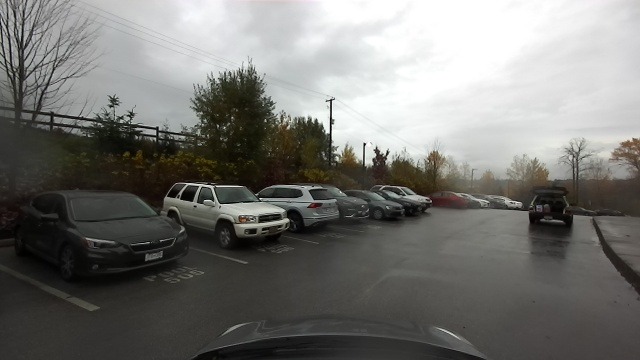car: (7, 187, 188, 274), (165, 175, 288, 250), (277, 184, 339, 231), (525, 183, 576, 231), (387, 184, 429, 217), (369, 195, 406, 224), (433, 186, 470, 213), (339, 196, 371, 224), (472, 193, 500, 213)
